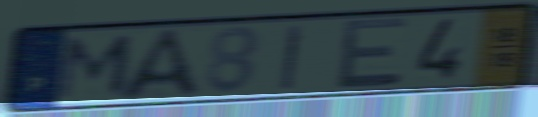4: (414, 15, 467, 84)
8: (203, 23, 265, 97)
A: (116, 26, 205, 102)
E: (335, 14, 411, 92)
I: (277, 22, 307, 92)
M: (52, 33, 140, 102)
